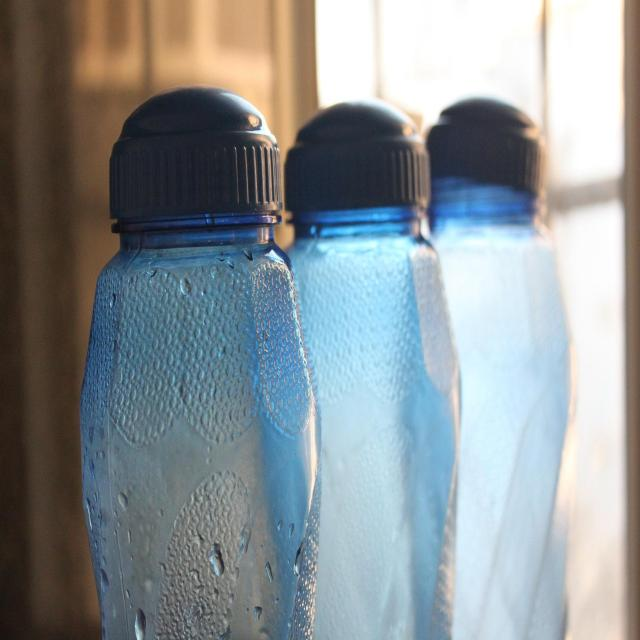blue_bottle: (74, 92, 327, 636), (289, 91, 467, 636), (427, 95, 574, 640)
